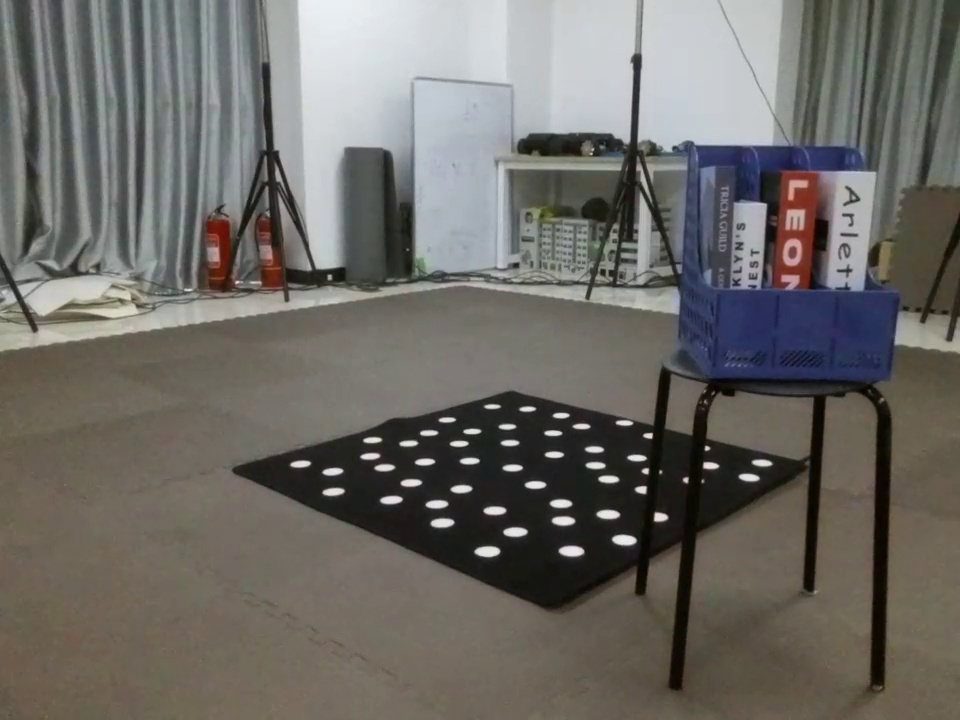files: (653, 135, 914, 393)
